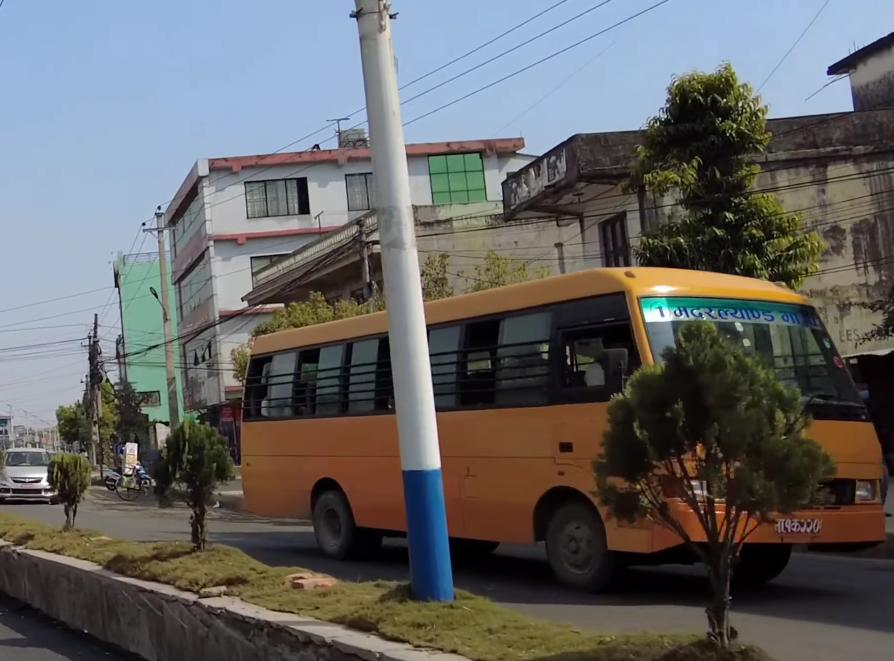car: (0, 445, 62, 512)
school_bus: (234, 263, 894, 602)
